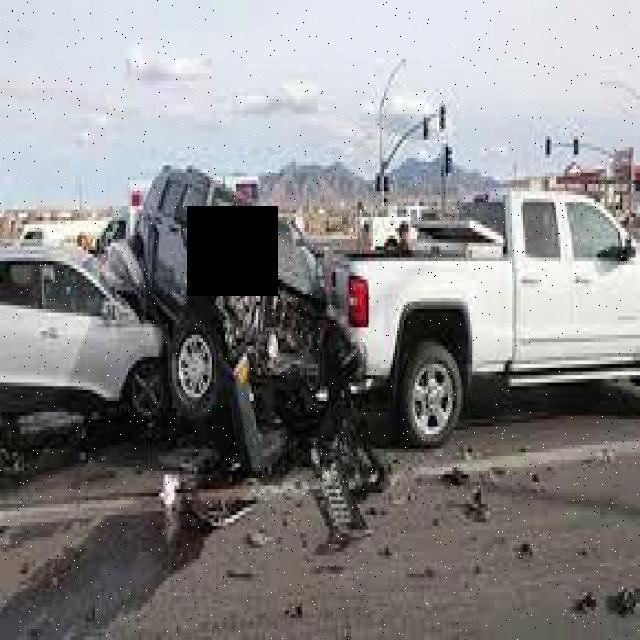multiple_accident: (2, 153, 580, 504)
